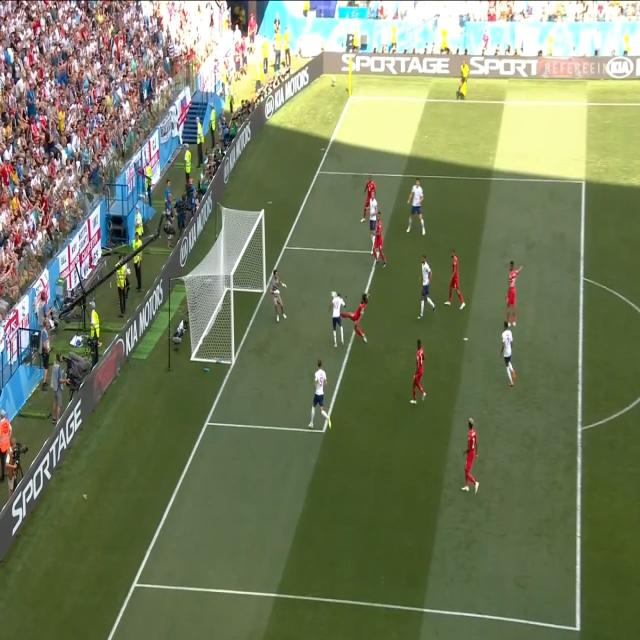ball: (330, 287, 337, 300)
player: (309, 354, 333, 432), (459, 415, 481, 496), (444, 242, 466, 312), (415, 254, 438, 319), (405, 174, 427, 240), (408, 334, 427, 410), (498, 318, 517, 392), (348, 286, 369, 349), (330, 288, 346, 350), (508, 254, 523, 317), (374, 212, 388, 274), (362, 168, 375, 201), (369, 193, 376, 243)
